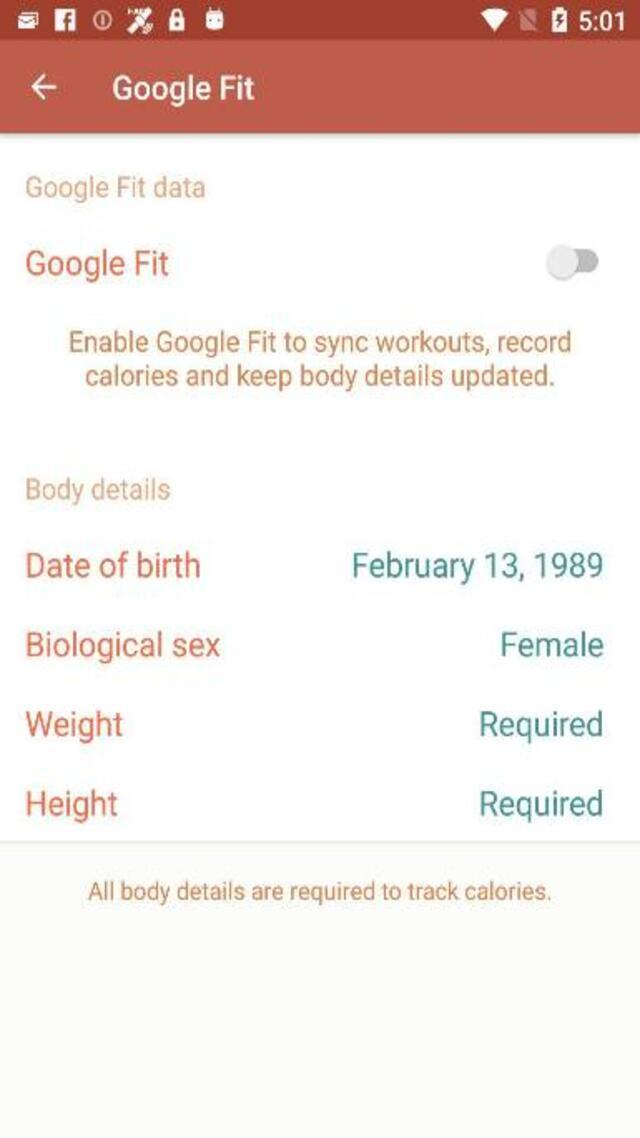CheckedTextView: (540, 244, 601, 282)
Icon: (29, 74, 56, 100)
Text: (67, 326, 573, 359), (80, 361, 564, 393), (88, 880, 550, 905), (347, 550, 607, 582), (28, 630, 222, 664), (24, 174, 204, 202), (27, 248, 170, 282), (27, 550, 200, 577), (478, 708, 608, 743), (112, 74, 254, 106), (477, 788, 608, 822), (27, 477, 170, 505), (496, 630, 609, 660), (27, 709, 123, 742), (28, 788, 118, 822)
